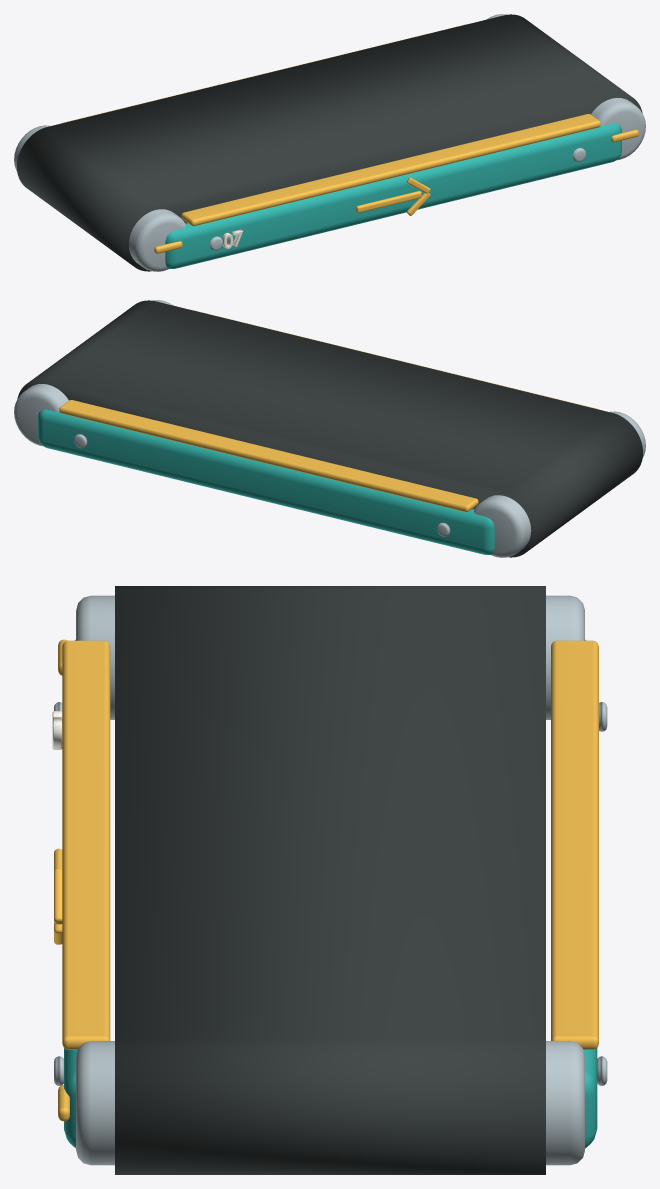
Rendered from mini-conveyor.glb.
3 renders of one model, top to bottom at view 1: azimuth 30°, elevation 25°; view 2: azimuth 150°, elevation 25°; view 3: azimuth 270°, elevation 25°, orthographic. The views are drawn at different scales.
Visible parts, largest first — view 1: Continuous rubber belt, Mini conveyor enamel side.001, Mini conveyor brass trim.001, Drive roller, Drive roller.001, Direction stem, Mini conveyor brass trim; view 2: Continuous rubber belt, Mini conveyor enamel side, Mini conveyor brass trim, Drive roller, Drive roller.001, Mini conveyor brass trim.001; view 3: Continuous rubber belt, Mini conveyor brass trim.001, Mini conveyor brass trim, Drive roller.001, Drive roller, Mini conveyor enamel side, Mini conveyor enamel side.001.
Boxes of the visible parts, x1,y1,x2,y2 form: Continuous rubber belt: [17, 14, 642, 271]; Mini conveyor enamel side.001: [165, 123, 621, 268]; Mini conveyor brass trim.001: [181, 114, 600, 226]; Drive roller: [14, 125, 185, 271]; Drive roller.001: [486, 14, 645, 160]; Direction stem: [356, 191, 421, 212]; Mini conveyor brass trim: [61, 24, 466, 123]; Continuous rubber belt: [17, 300, 642, 557]; Mini conveyor enamel side: [38, 409, 494, 554]; Mini conveyor brass trim: [59, 400, 478, 512]; Drive roller: [474, 411, 645, 557]; Drive roller.001: [14, 300, 173, 446]; Mini conveyor brass trim.001: [193, 310, 598, 409]; Continuous rubber belt: [115, 586, 545, 1174]; Mini conveyor brass trim.001: [62, 640, 110, 1049]; Mini conveyor brass trim: [551, 640, 598, 1049]; Drive roller.001: [76, 1041, 584, 1165]; Drive roller: [76, 595, 584, 719]; Mini conveyor enamel side: [583, 639, 597, 1148]; Mini conveyor enamel side.001: [64, 639, 77, 1148].
Size of the model in its own units: 2 by 0.24 by 0.926.
